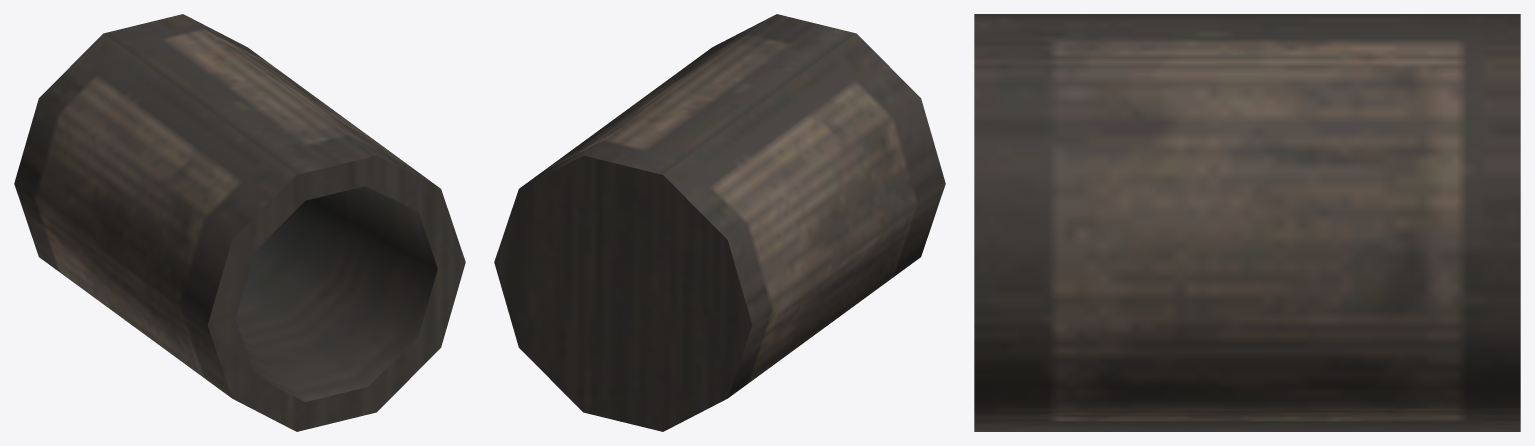
Rendered from p_rus_penciljar_LOD0.obj.
The picture shows the model from 3 angles, left to right: view 1: azimuth 30°, elevation 25°; view 2: azimuth 150°, elevation 25°; view 3: azimuth 270°, elevation 25°; orthographic projection. The views are drawn at different scales.
Parts seen in each view (by area): view 1: mtl_p_rus_penciljar; view 2: mtl_p_rus_penciljar; view 3: mtl_p_rus_penciljar.
Boxes of the visible parts, x1,y1,x2,y2 form: mtl_p_rus_penciljar: (14, 14, 465, 431); mtl_p_rus_penciljar: (494, 14, 945, 431); mtl_p_rus_penciljar: (974, 14, 1520, 431).
Bounding box in the file's own units: 10.11 × 9.62 × 13.13.
